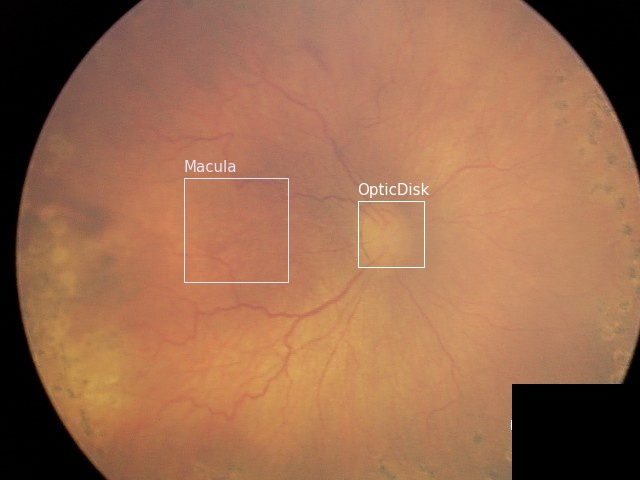Macula: (183, 177, 287, 281)
OpticDisk: (357, 200, 423, 266)
